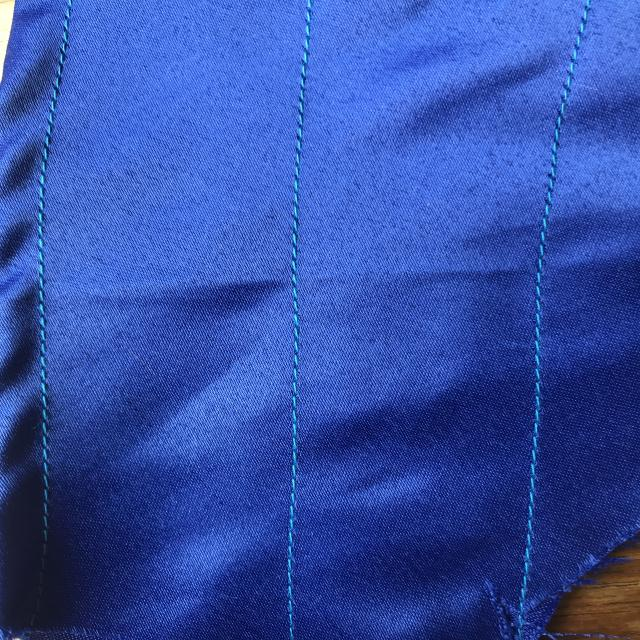good: (272, 150, 324, 316)
